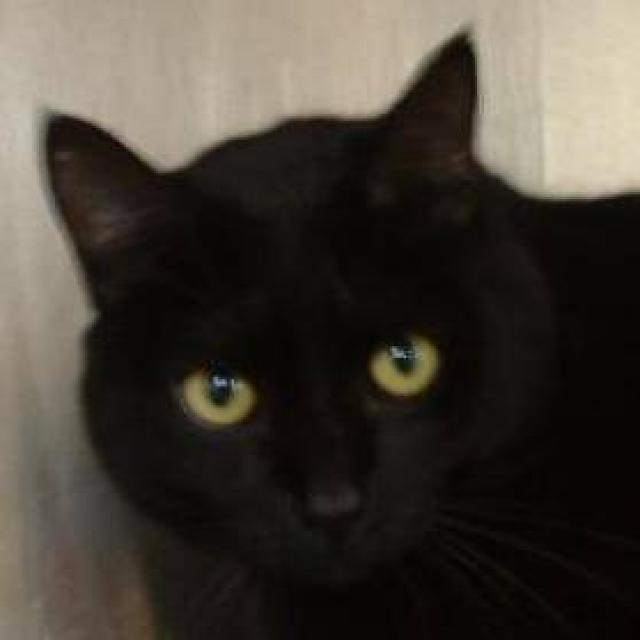cat: (41, 23, 638, 638)
